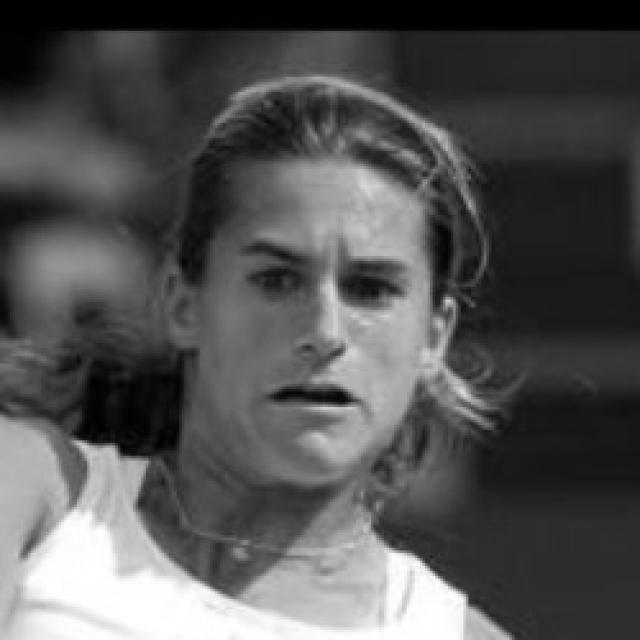real: (198, 159, 434, 487), (233, 252, 403, 311)
